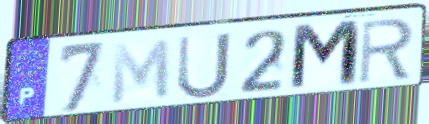2: (237, 27, 290, 96)
7: (56, 38, 107, 116)
M: (287, 17, 364, 94), (109, 37, 172, 108)
R: (356, 16, 417, 87)
U: (175, 30, 234, 102)
